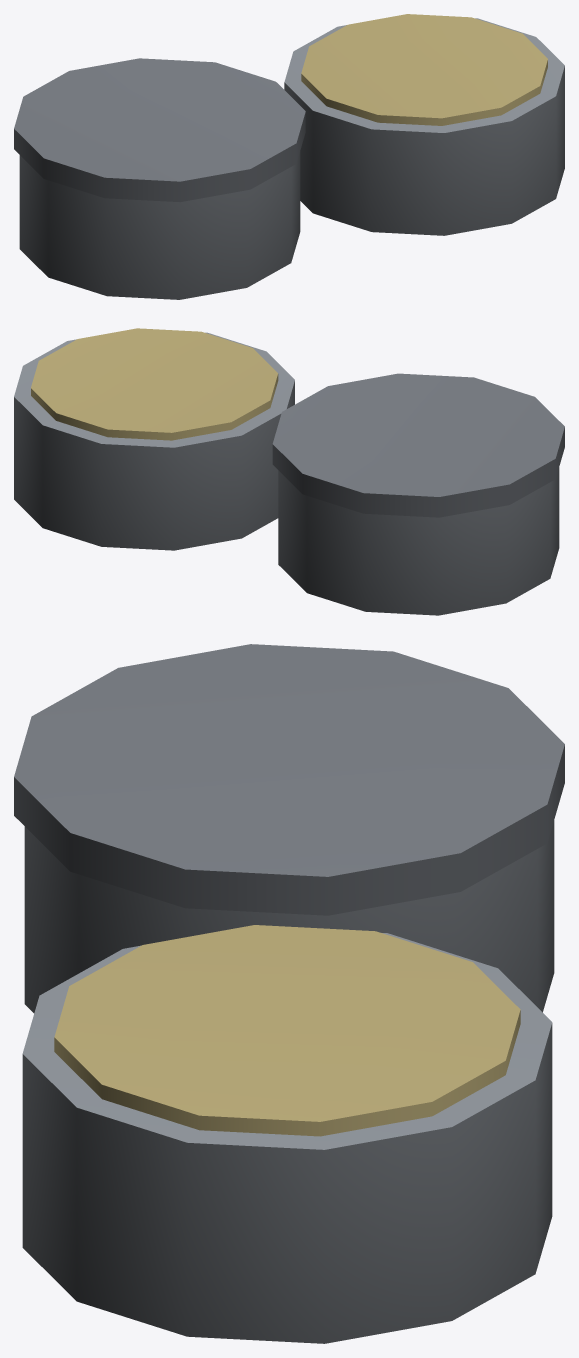
The model's file is ph_item_wound_salve.glb.
The picture shows the model from 3 angles, top to bottom: view 1: azimuth 30°, elevation 25°; view 2: azimuth 150°, elevation 25°; view 3: azimuth 270°, elevation 25°; orthographic projection. The views are drawn at different scales.
Parts seen in each view (by area): view 1: ph_item_wound_salve; view 2: ph_item_wound_salve; view 3: ph_item_wound_salve.
Boxes of the visible parts, x1,y1,x2,y2 form: ph_item_wound_salve: (14,14,564,299); ph_item_wound_salve: (14,328,564,615); ph_item_wound_salve: (14,644,564,1343).
Size of the model in its own units: 0.2087 by 0.047 by 0.103.
